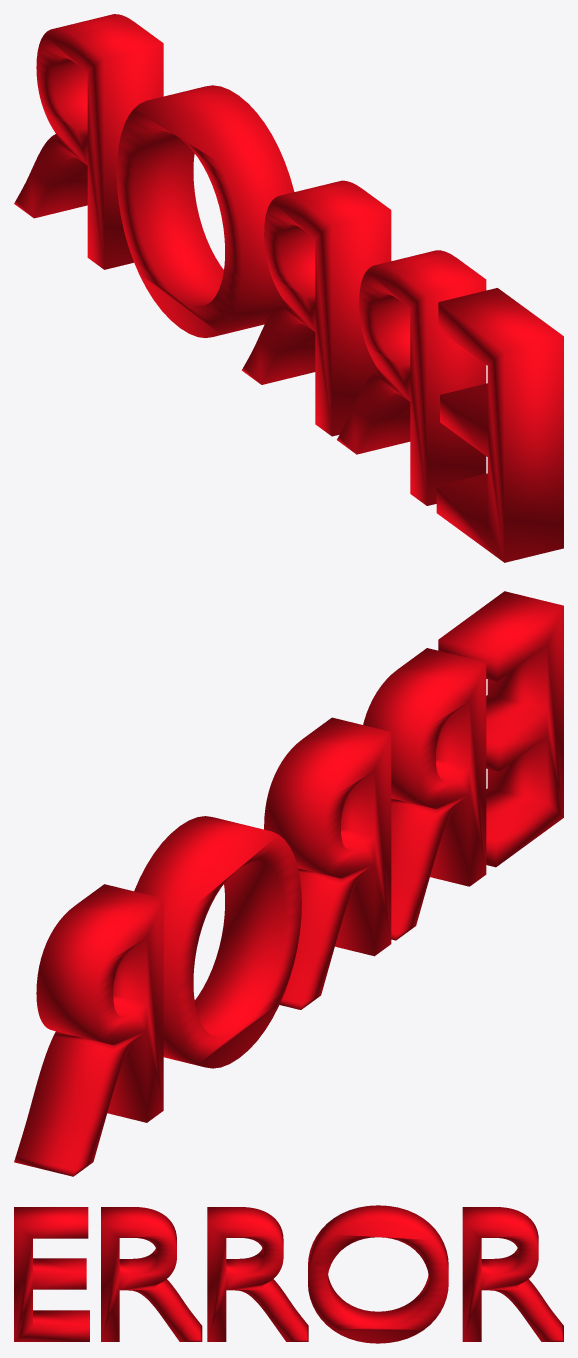
Rendered from ERROR.glb.
3 views of the same model, one above another, from view 1: azimuth 30°, elevation 25°; view 2: azimuth 150°, elevation 25°; view 3: azimuth 270°, elevation 25° (orthographic). The views are drawn at different scales.
Parts seen in each view (by area): view 1: Text; view 2: Text; view 3: Text.
Part boxes in pixels (x1,y1,x2,y2): Text: [14, 14, 563, 562]; Text: [14, 591, 563, 1176]; Text: [14, 1205, 563, 1343].
Size of the model in its own units: 0.2 by 0.7 by 2.86.
